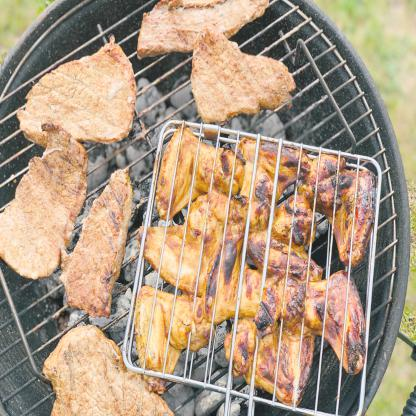Carne: (0, 121, 88, 287), (46, 162, 133, 323), (21, 32, 144, 143), (25, 328, 174, 415), (188, 33, 301, 122)
